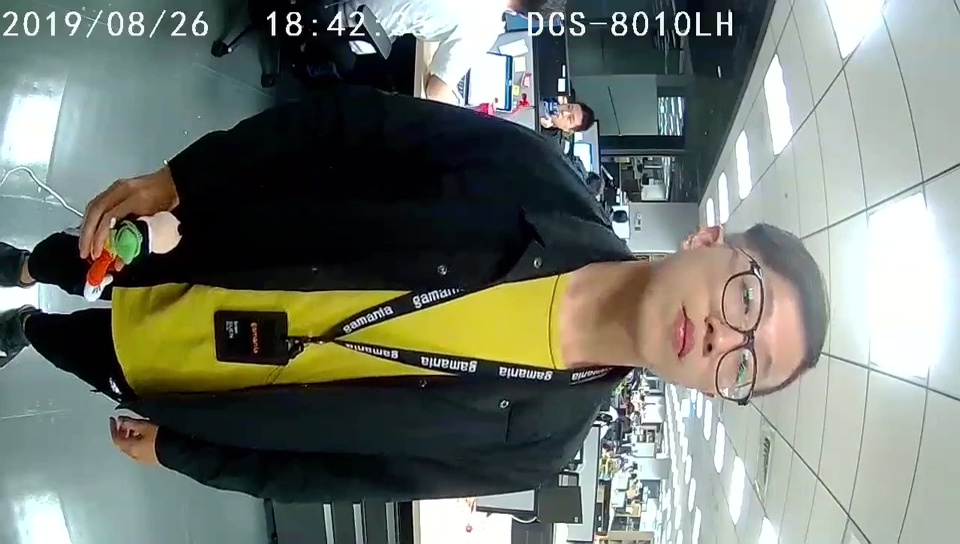goofy: (81, 211, 182, 303)
